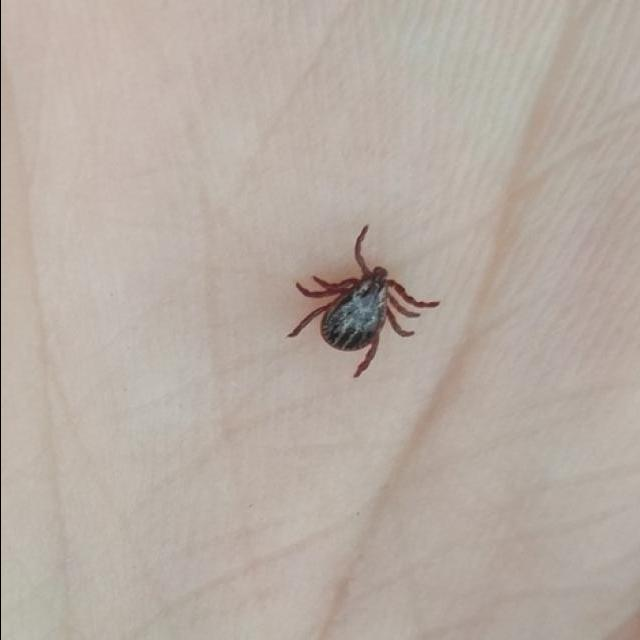Dermacentor Reticulatus-M: (285, 224, 439, 379)
